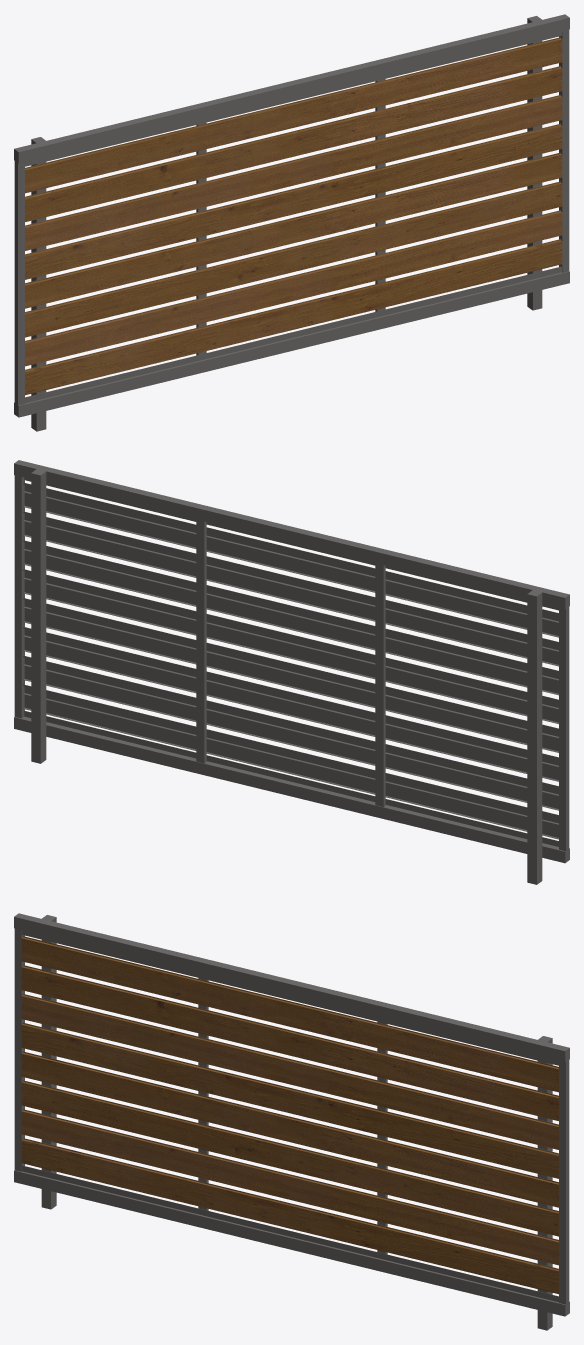
File: EAF-sensia-r-yoko_w1998_h1000_B_naturalpine.fbx
3 views of the same model, one above another, from view 1: azimuth 30°, elevation 25°; view 2: azimuth 150°, elevation 25°; view 3: azimuth 330°, elevation 25° (orthographic).
Visible parts, largest first — view 1: EAF-sensia-r-yoko_w1998_h1000_B-darkpine.003; view 2: EAF-sensia-r-yoko_w1998_h1000_B-darkpine.003; view 3: EAF-sensia-r-yoko_w1998_h1000_B-darkpine.003.
Part boxes in pixels (bbox=[...]): EAF-sensia-r-yoko_w1998_h1000_B-darkpine.003: bbox=[14, 14, 569, 431]; EAF-sensia-r-yoko_w1998_h1000_B-darkpine.003: bbox=[14, 460, 569, 884]; EAF-sensia-r-yoko_w1998_h1000_B-darkpine.003: bbox=[14, 913, 569, 1330].
Bounding box in the file's own units: 200 × 100 × 6.5.
2 materials, 1 textured.
